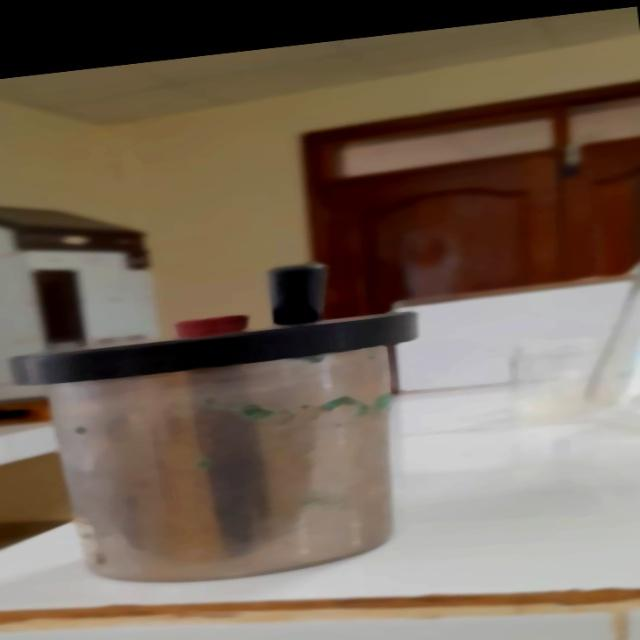Calorimeter: (2, 246, 440, 602)
